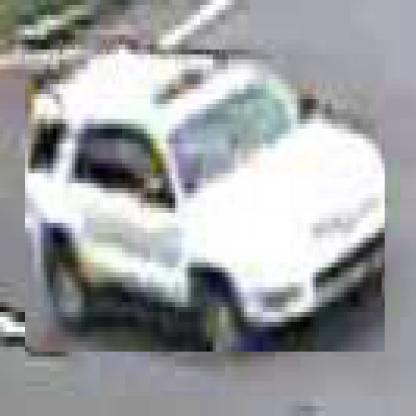car: (26, 56, 389, 358)
